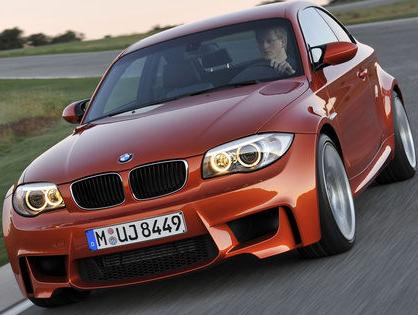front_view: (2, 129, 318, 305)
headlight: (201, 126, 295, 181)
side_glass: (297, 4, 357, 69)
